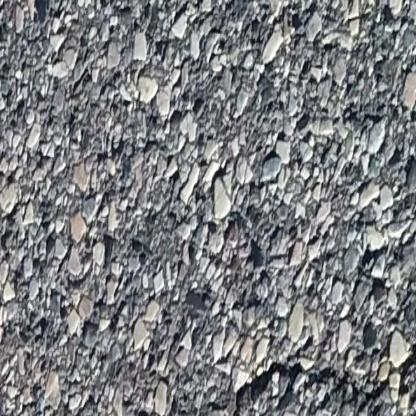Cracks: (226, 360, 309, 416), (393, 336, 416, 399)
